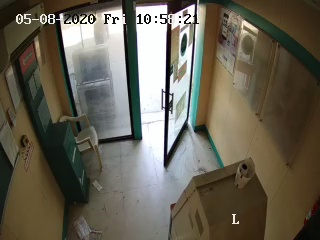open: (121, 2, 202, 170)
